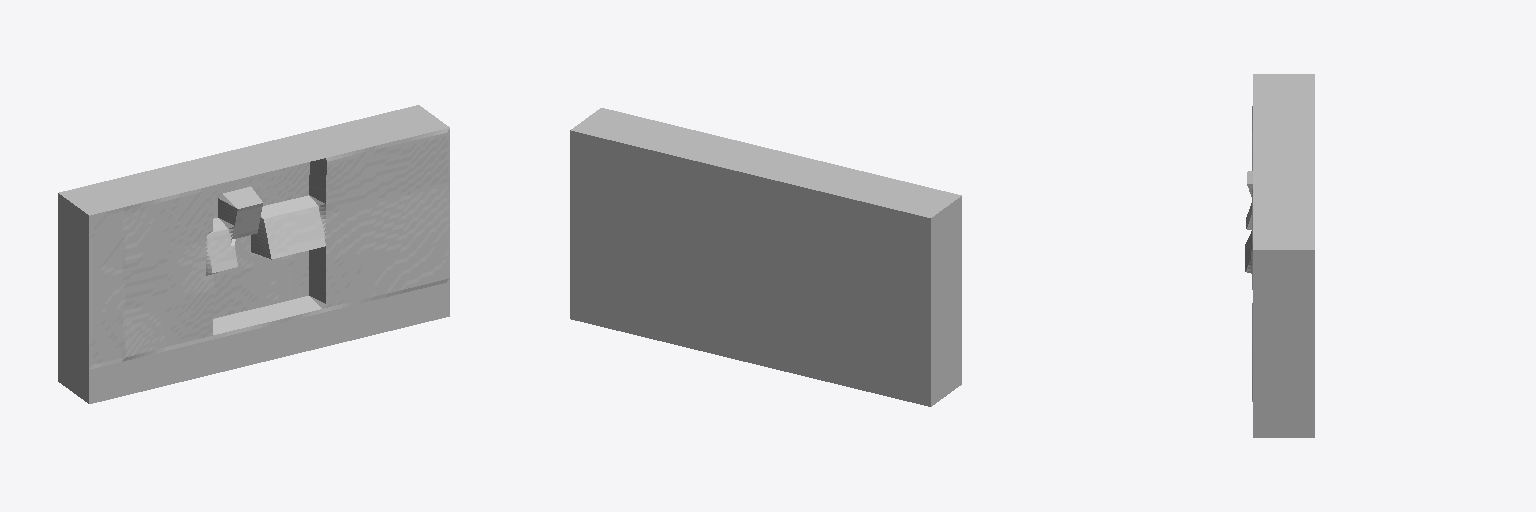
Rendered from rectangular_prism_bumps_5_0.obj.
3 renders of one model, left to right at view 1: azimuth 30°, elevation 25°; view 2: azimuth 150°, elevation 25°; view 3: azimuth 270°, elevation 25°, orthographic.
Size of the model in its own units: 10 by 5 by 1.68.